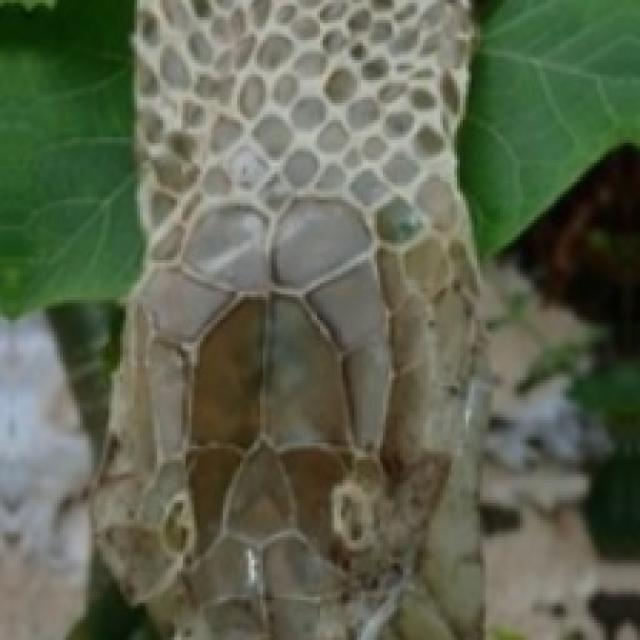king cobra: (94, 0, 483, 637)
